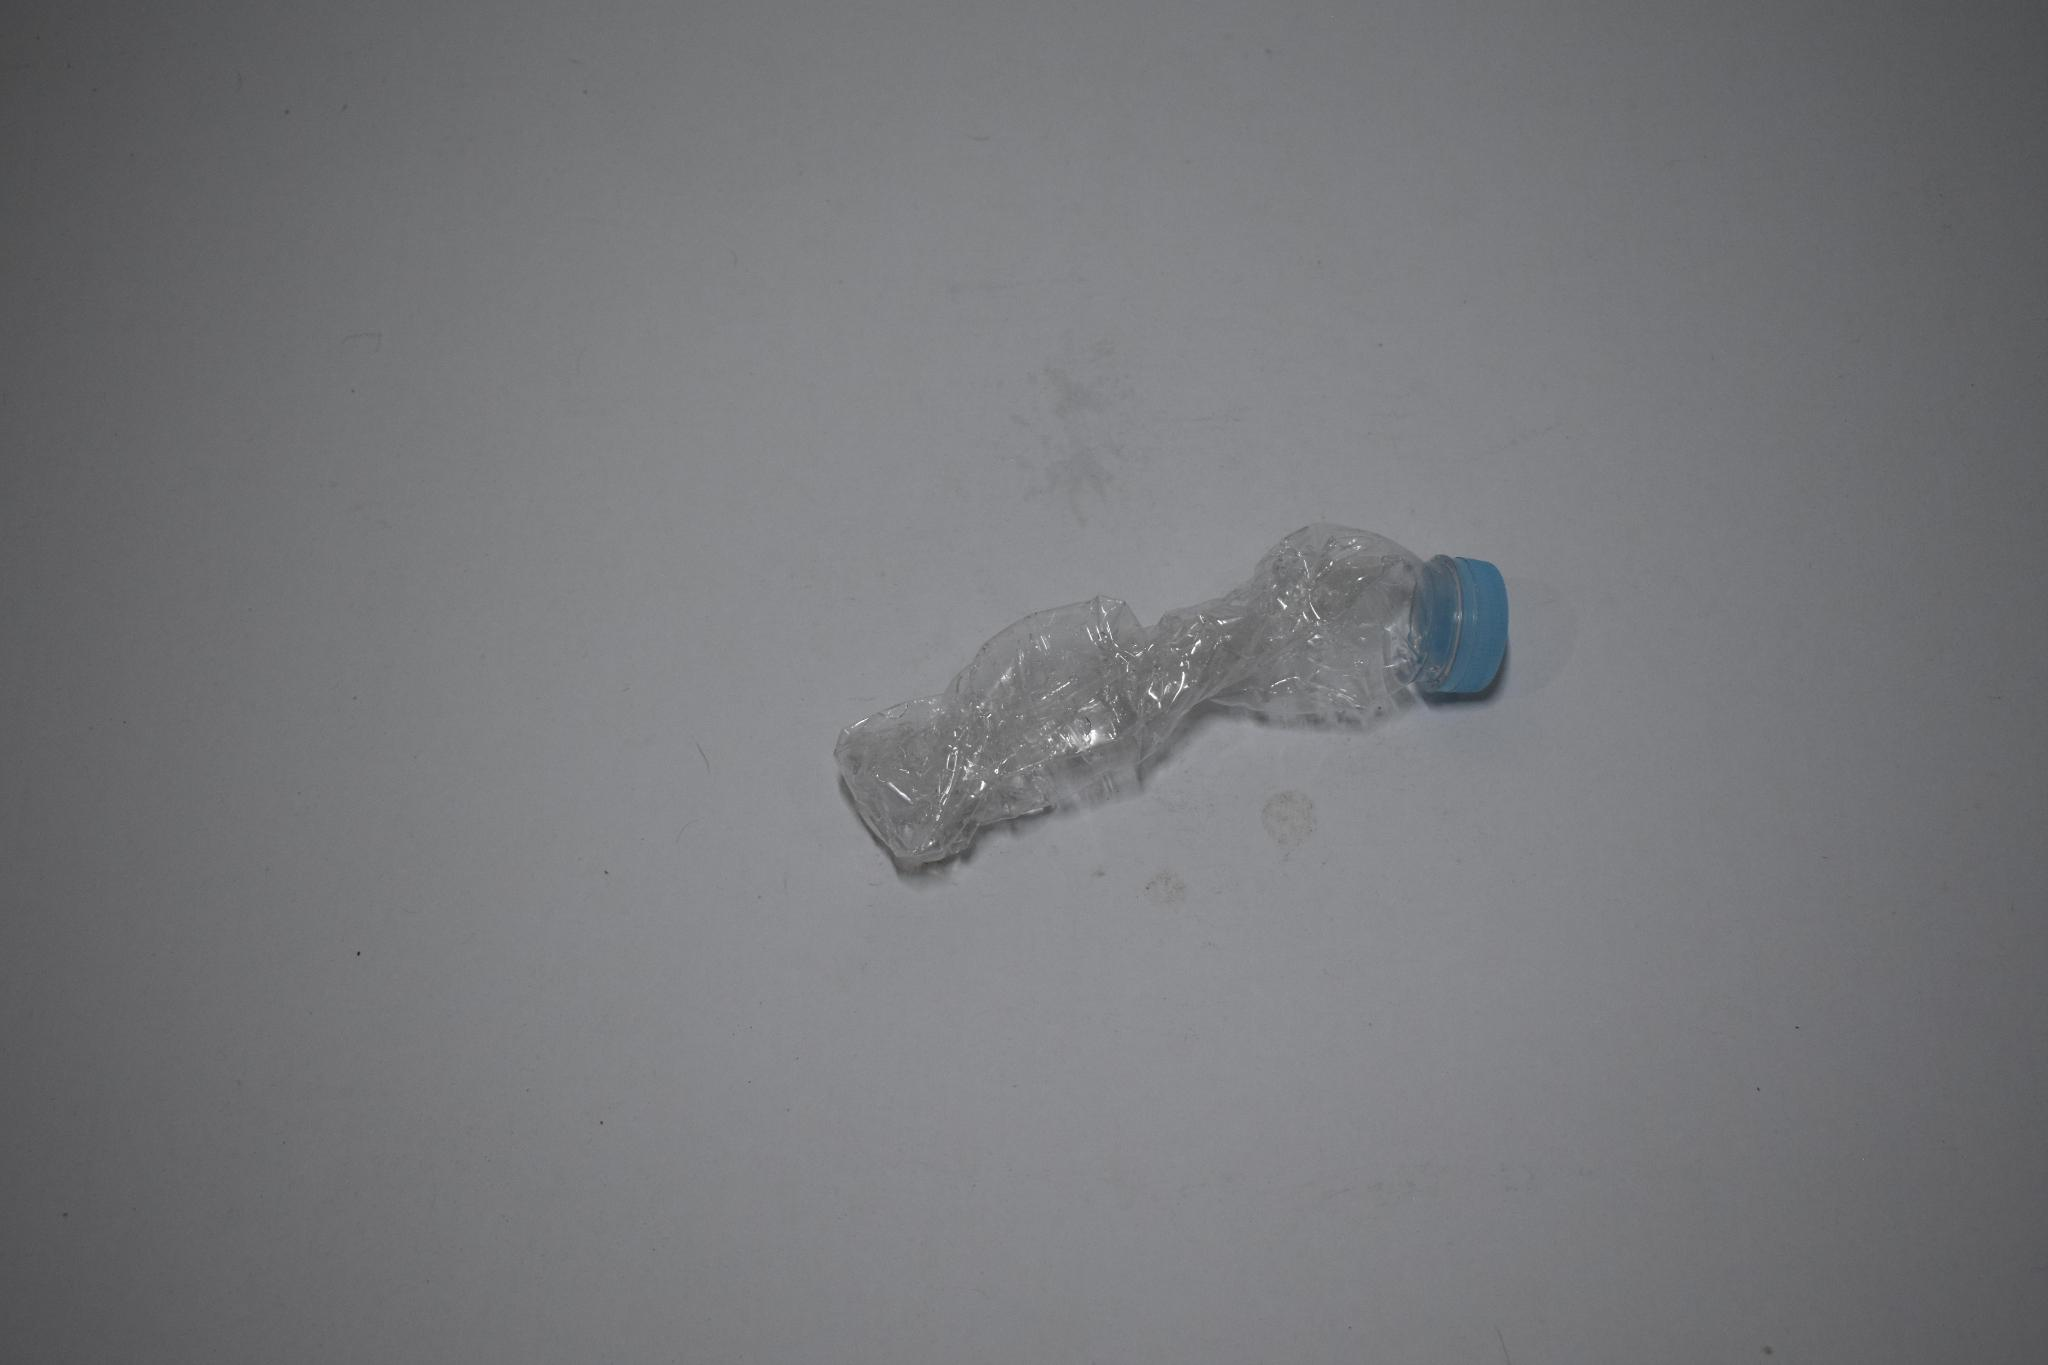bottle: (825, 478, 1546, 906)
